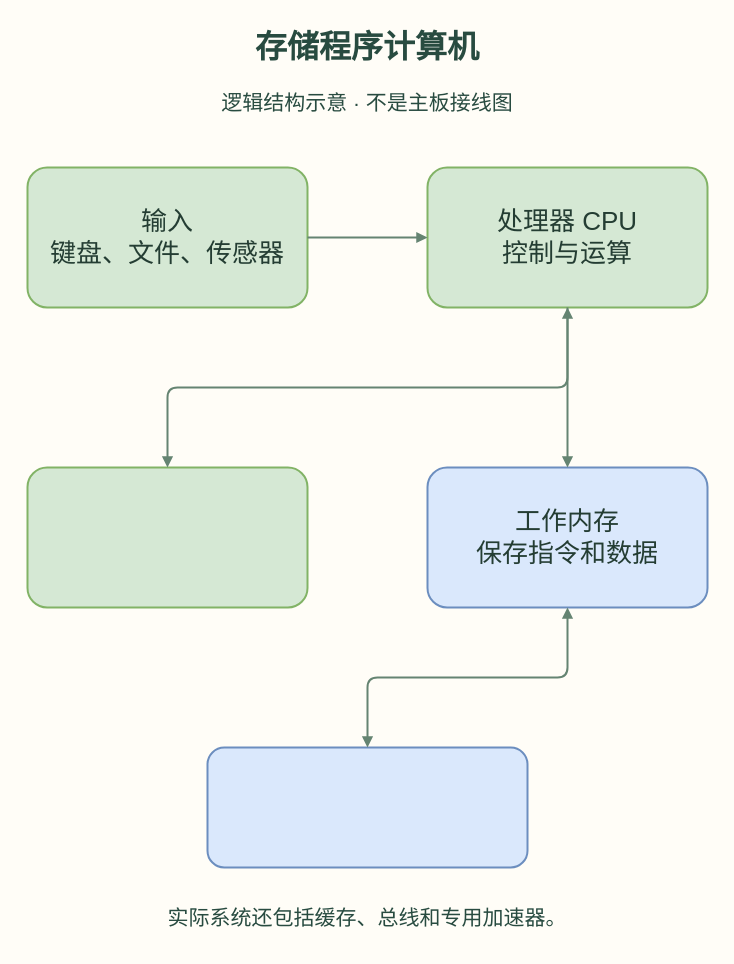
The diagram is 734 pixels wide and 964 high, and some of its shapes have lost their labels. Here are the shapes that lost their labels. From the top down, the centre of each, then its label:
(x=167, y=537): 输出 屏幕、打印、执行器
(x=367, y=807): 持久存储 程序和文件
